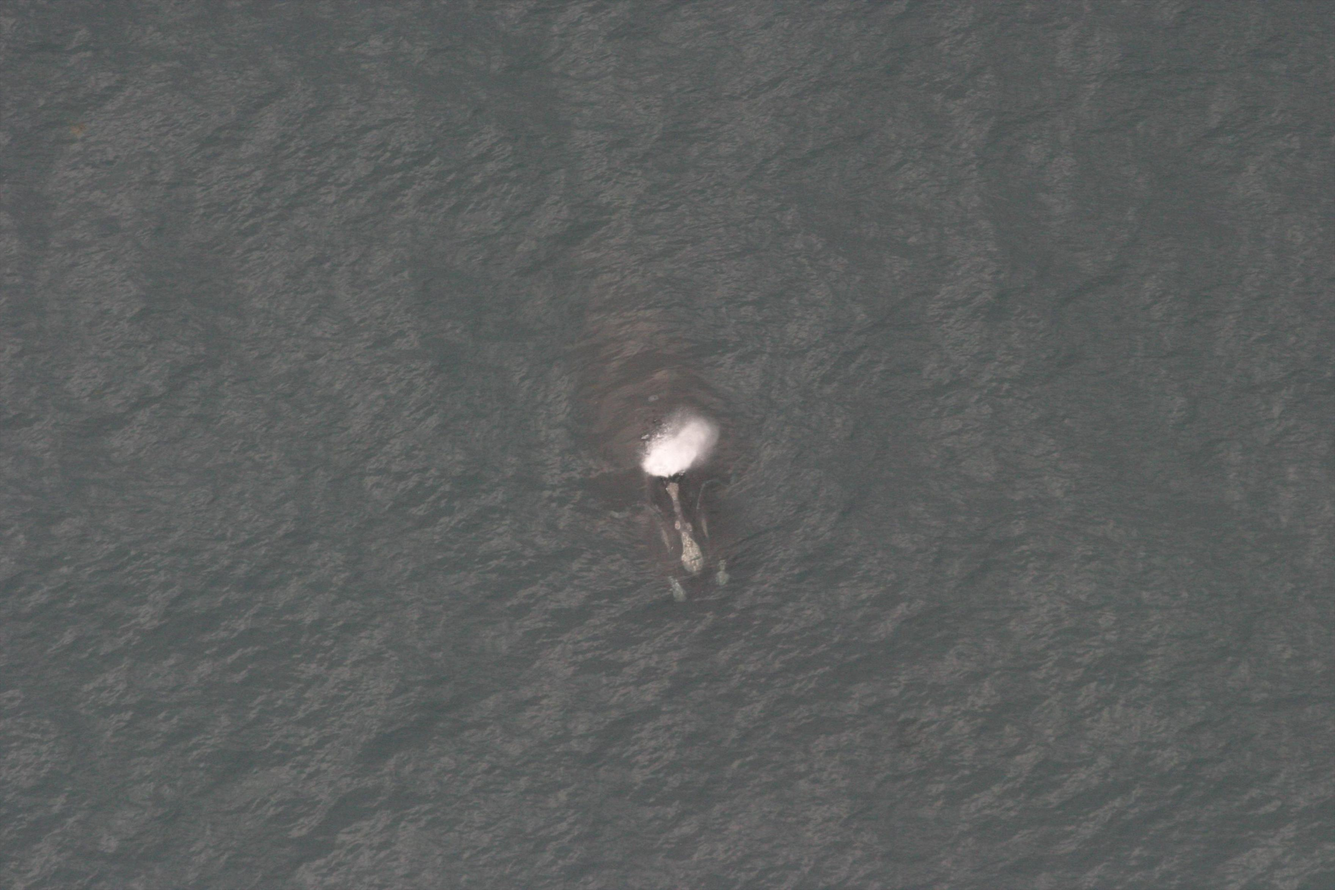whale: (582, 323, 746, 614)
